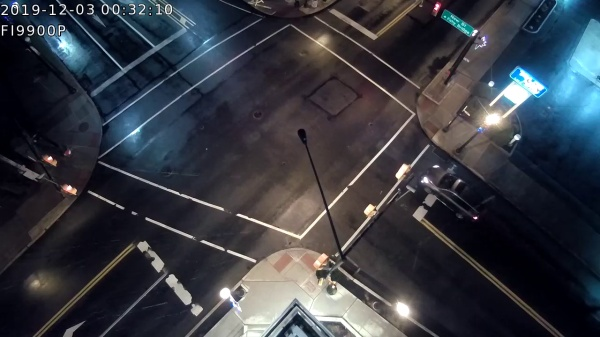car: (416, 164, 487, 215)
